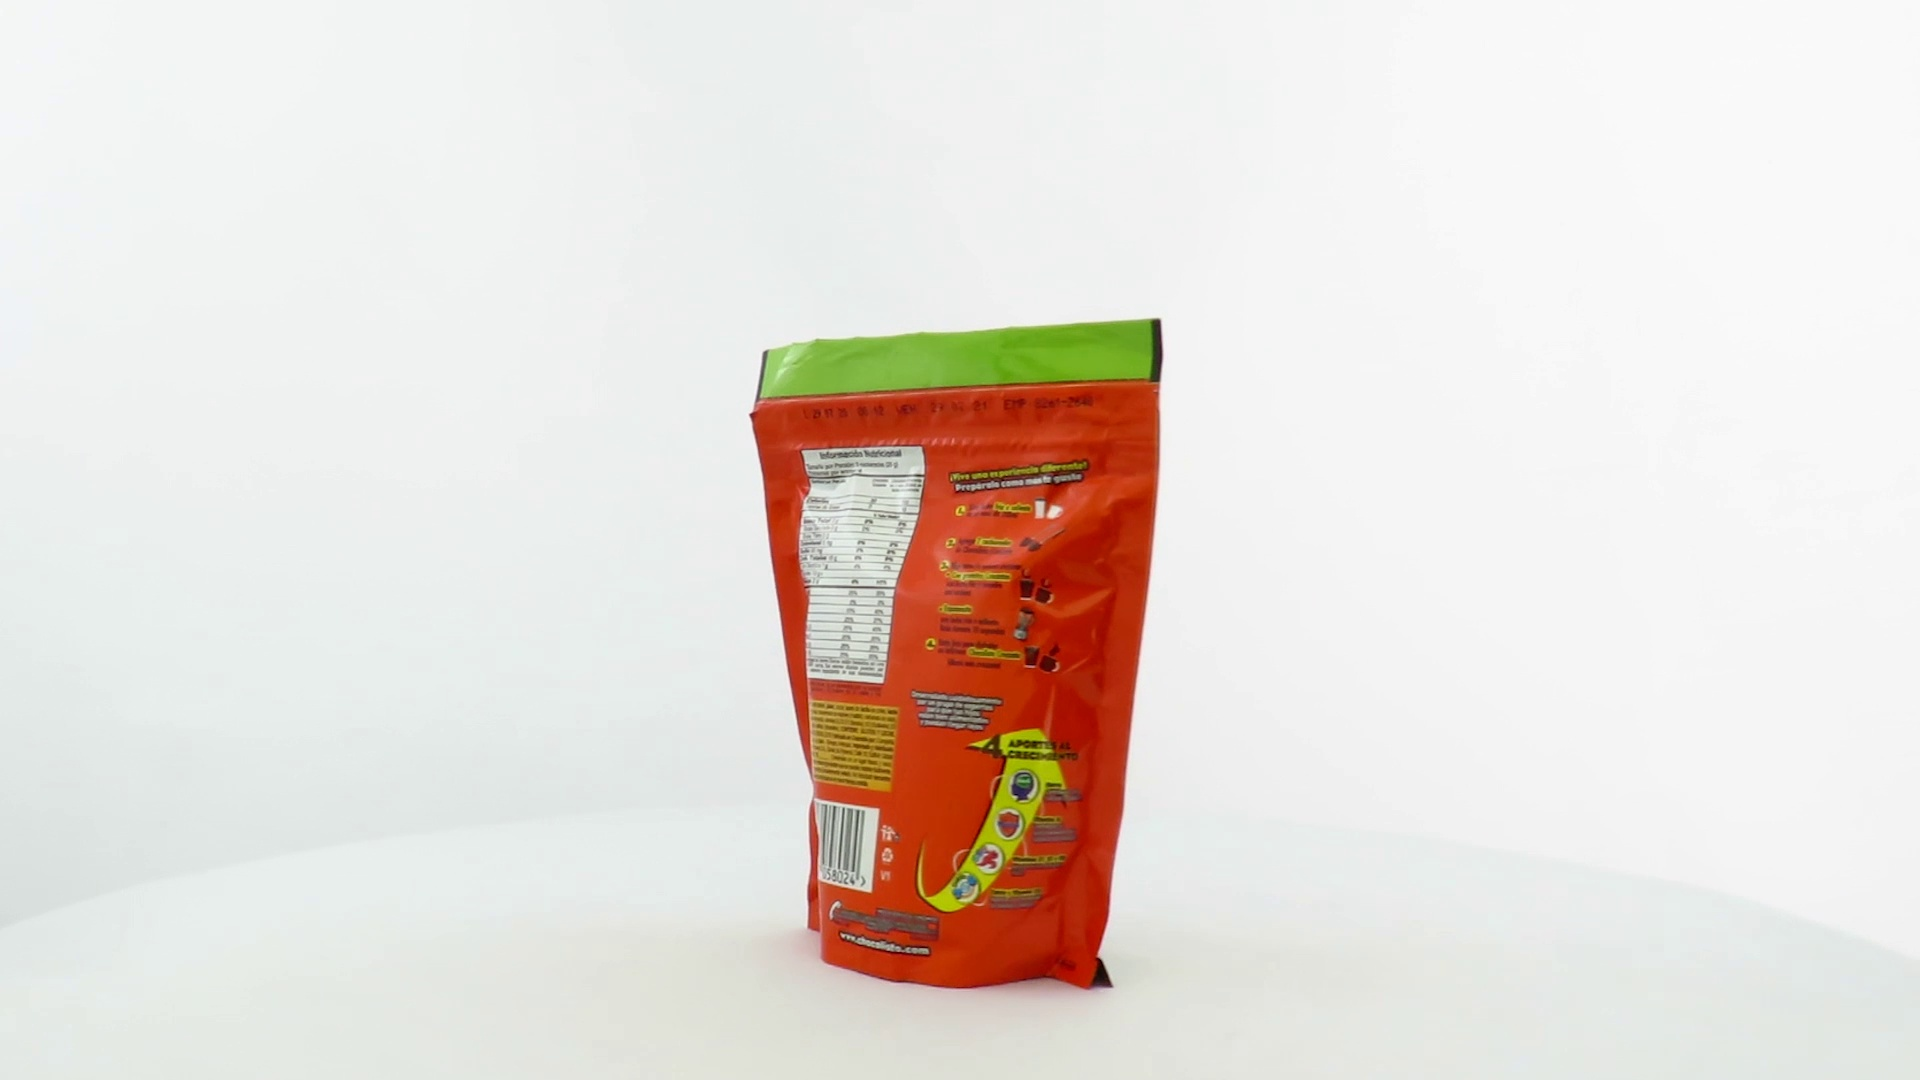COL0170102DYP10000: (744, 313, 1168, 996)
